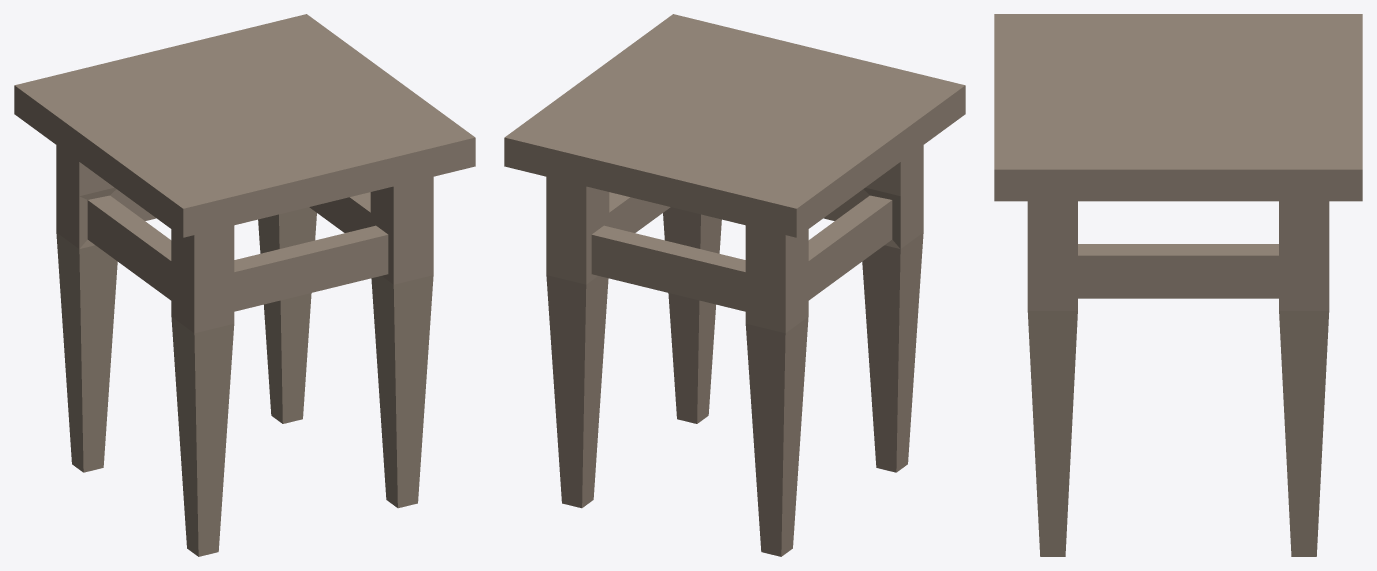
Rendered from Stool.fbx.
The picture shows the model from 3 angles, left to right: view 1: azimuth 30°, elevation 25°; view 2: azimuth 150°, elevation 25°; view 3: azimuth 270°, elevation 25°; orthographic projection. The views are drawn at different scales.
Visible parts, largest first — view 1: Stool; view 2: Stool; view 3: Stool.
Part boxes in pixels (box(x1,y1,x2,y2)): Stool: box(14, 14, 475, 556); Stool: box(504, 14, 965, 556); Stool: box(994, 14, 1362, 556).
Bounding box in the file's own units: 50.06 × 60.95 × 50.06.
